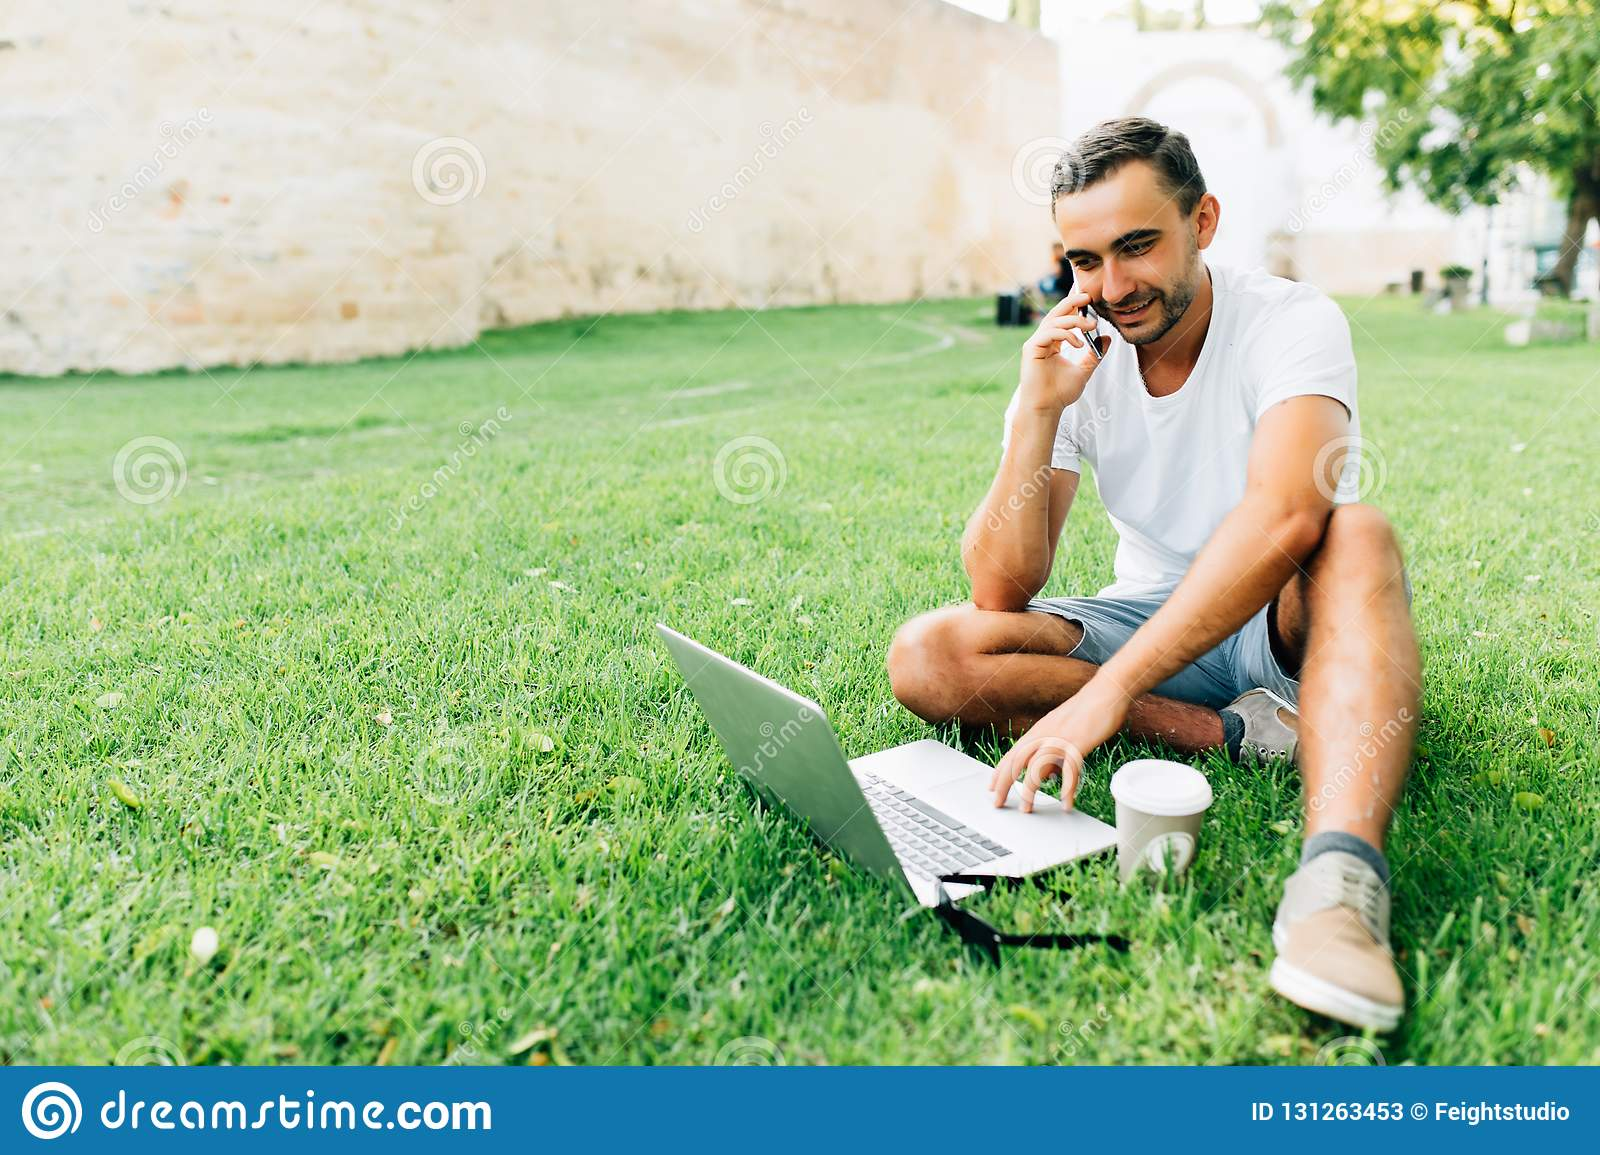phone: (1072, 279, 1103, 364)
talk: (1017, 215, 1171, 420)
